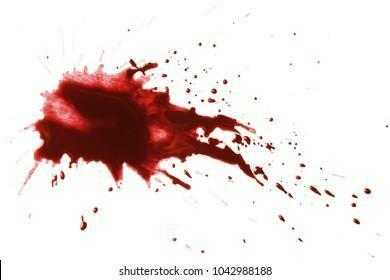Fire: (20, 59, 277, 194), (275, 128, 337, 207), (80, 216, 87, 230), (51, 175, 58, 188), (60, 171, 65, 180), (365, 188, 372, 194), (354, 219, 361, 224), (353, 194, 359, 199), (93, 208, 98, 214), (352, 203, 357, 208), (108, 187, 112, 192)
